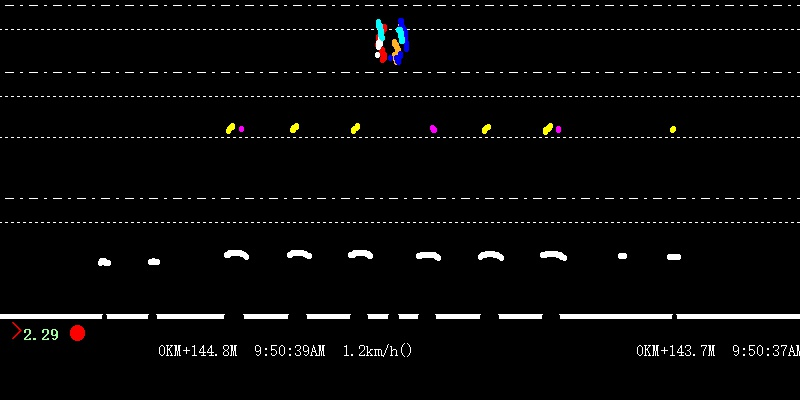J: (372, 2, 411, 64)
circle: (67, 322, 88, 344)
